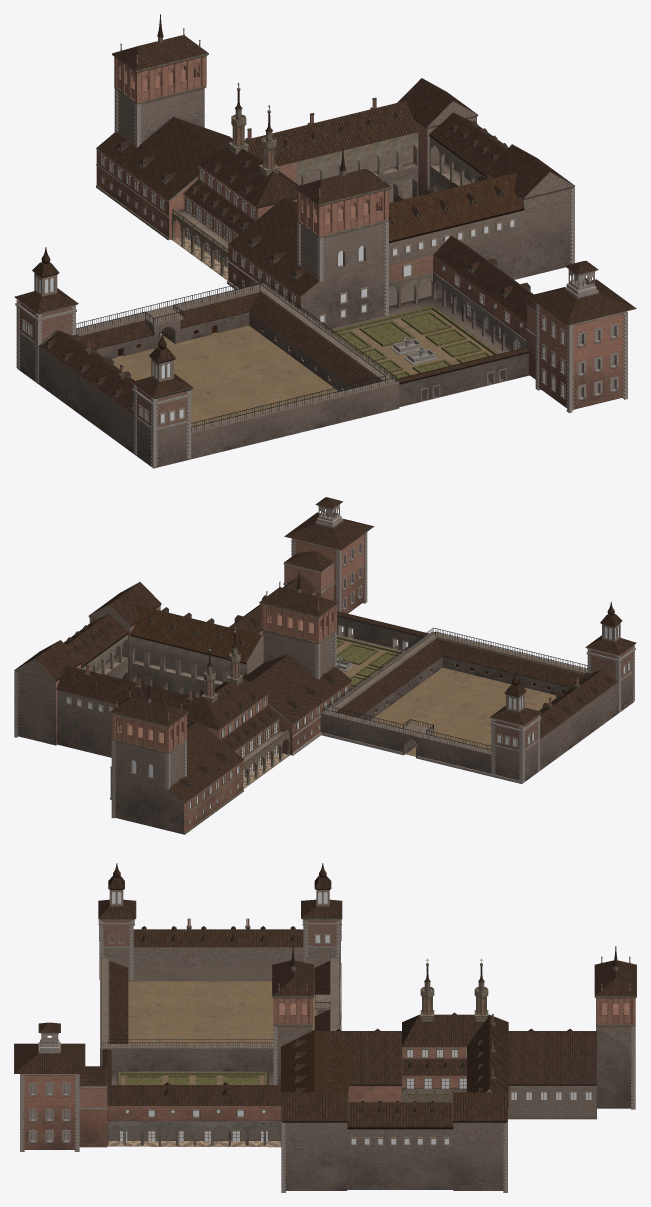
Rendered from PalacioValsain.fbx.
3 views of the same model, one above another, from view 1: azimuth 30°, elevation 25°; view 2: azimuth 150°, elevation 25°; view 3: azimuth 270°, elevation 25° (orthographic). The views are drawn at different scales.
Parts seen in each view (by area): view 1: SM_ParteGrande, SM_EntradaJardines, SM_PatioCentral, SM_Torre, SM_Suelo; view 2: SM_ParteGrande, SM_EntradaJardines, SM_PatioCentral, SM_Torre, SM_Suelo; view 3: SM_ParteGrande, SM_PatioCentral, SM_EntradaJardines, SM_Torre, SM_Suelo.
Boxes of the visible parts, x1,y1,x2,y2 form: SM_ParteGrande: (45, 14, 530, 410); SM_EntradaJardines: (14, 247, 500, 468); SM_PatioCentral: (22, 78, 574, 424); SM_Torre: (16, 89, 636, 467); SM_Suelo: (112, 186, 529, 427); SM_ParteGrande: (65, 570, 612, 834); SM_EntradaJardines: (320, 601, 636, 783); SM_PatioCentral: (14, 582, 630, 757); SM_Torre: (14, 497, 634, 818); SM_Suelo: (243, 632, 556, 789); SM_ParteGrande: (119, 918, 636, 1141); SM_PatioCentral: (99, 925, 508, 1190); SM_EntradaJardines: (98, 863, 342, 1084); SM_Torre: (14, 920, 635, 1192); SM_Suelo: (107, 981, 315, 1147).
Bounding box in the file's own units: 101 × 31.09 × 117.
